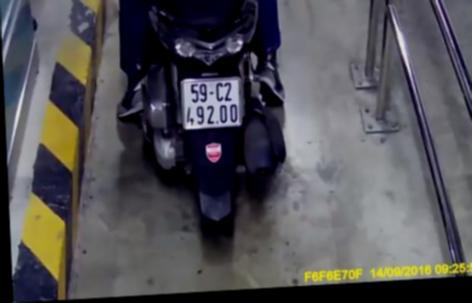License_Plate: (175, 73, 249, 137)
